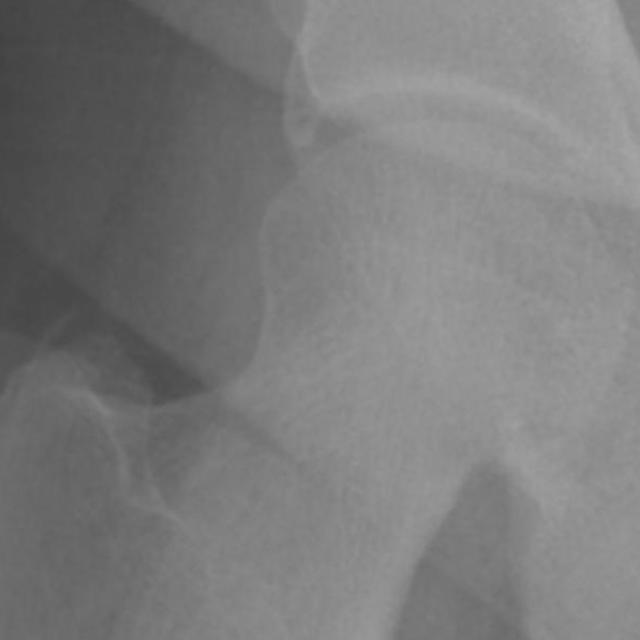Fitted_femural_head: (384, 119, 432, 384)
